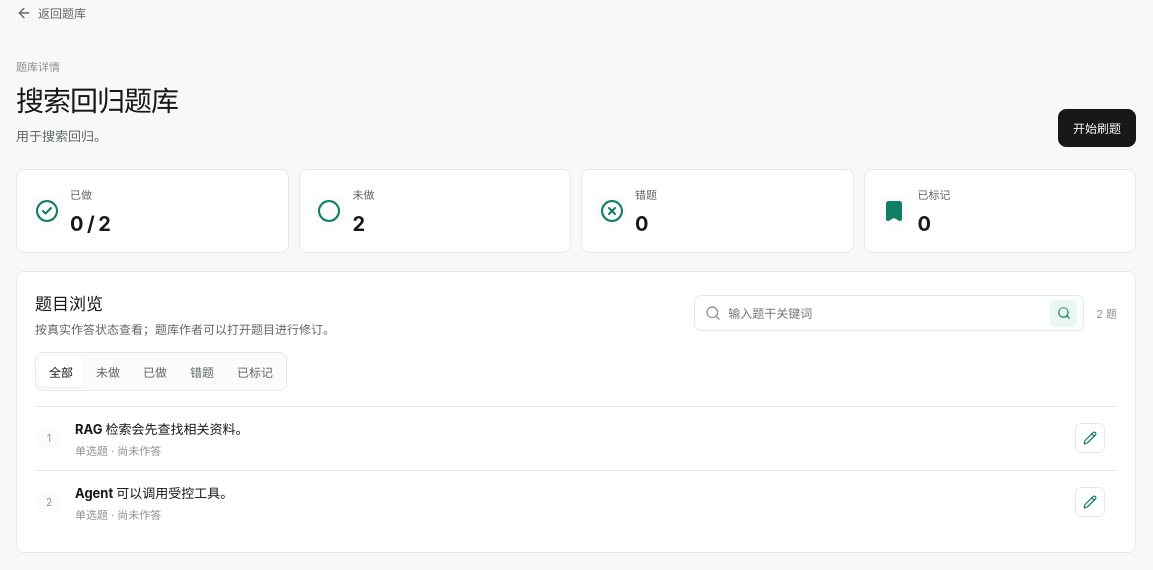
Test case: BankDetailPage › sends the query to the backend and shows the real match count
Expected: the text "RAG 检索会先查找相关资料。" is shown, [75,421,248,437]
Type "RAG" into the field named "查询题目" at (886, 313), box [726,305,1045,322]
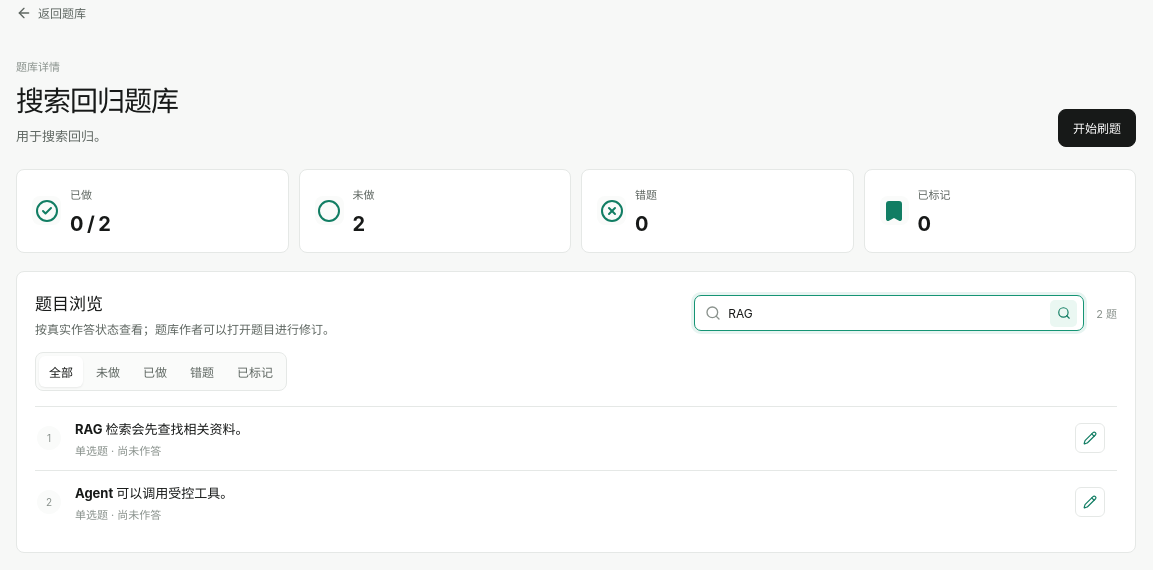
Click the button named "查询题目" at (1064, 313), box [1050,300,1077,327]
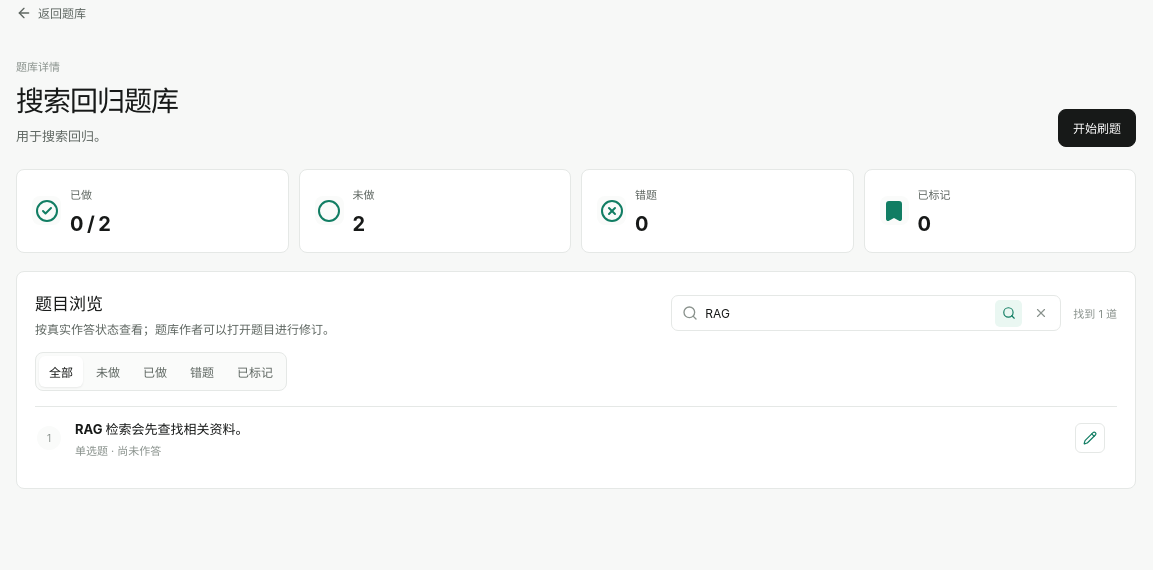
Expected: the text "找到 1 道" is shown, [1073,305,1117,321]
Expected: the text "Agent 可以调用受控工具。" is gone
